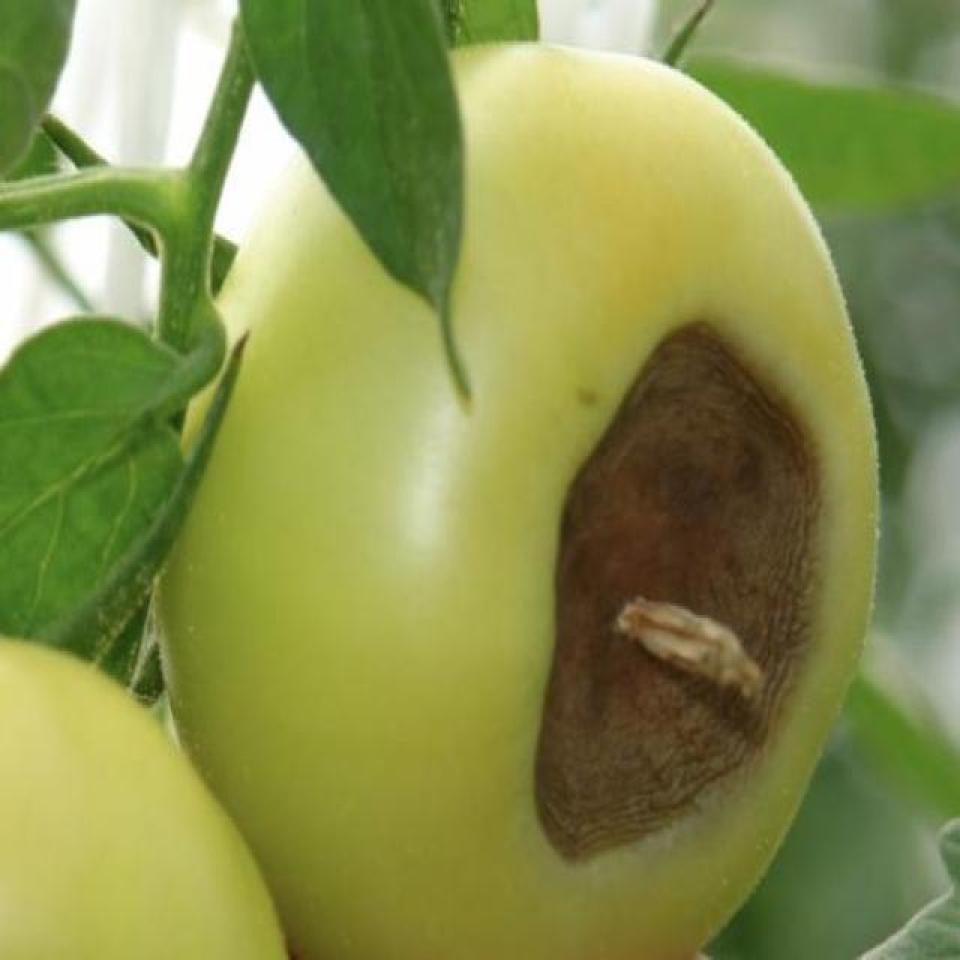Blossom_end_rot: (545, 267, 846, 897)
